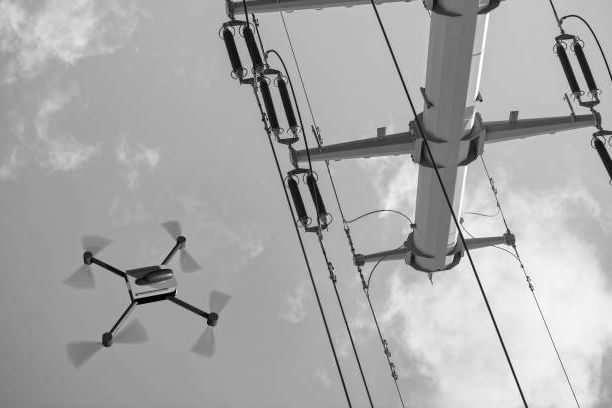Drone: (59, 216, 231, 372)
